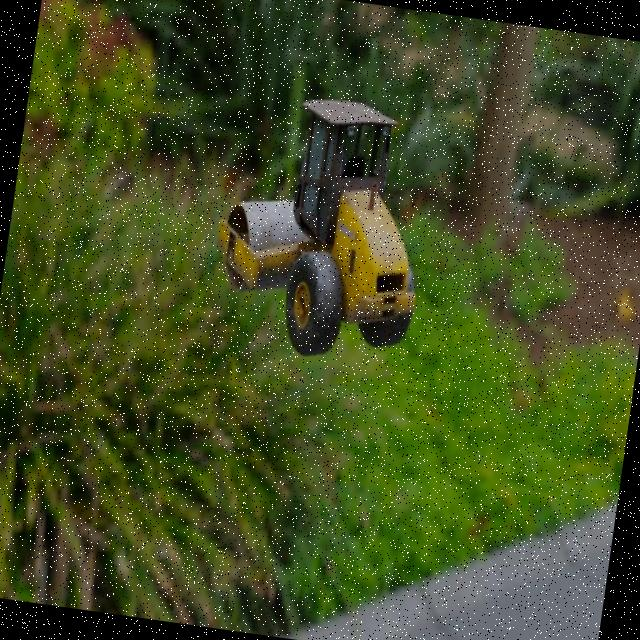Roller: (201, 84, 441, 370)
